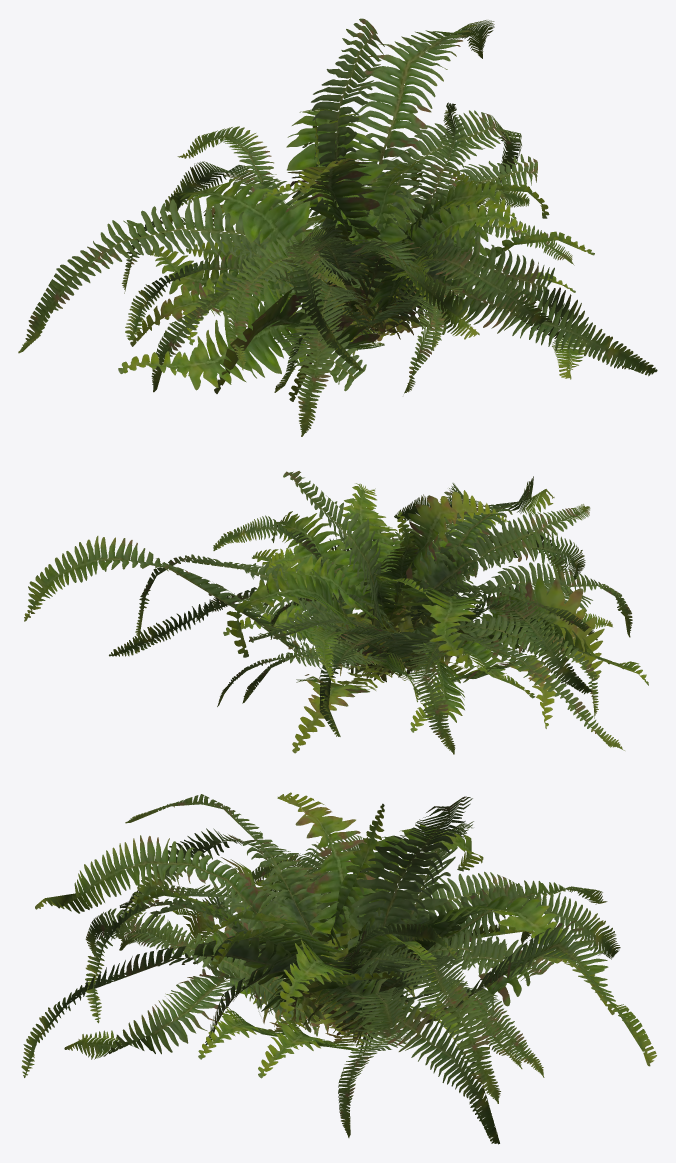
File: fern_02.glb
The picture shows the model from 3 angles, top to bottom: view 1: azimuth 30°, elevation 25°; view 2: azimuth 150°, elevation 25°; view 3: azimuth 270°, elevation 25°; orthographic projection. The views are drawn at different scales.
Visible parts, largest first — view 1: a, b, d, c; view 2: a, b, c, d; view 3: a, b, c, d.
Boxes of the visible parts, bbox=[...] form: a: bbox=[18, 18, 657, 436]; b: bbox=[118, 118, 588, 401]; d: bbox=[150, 170, 575, 392]; c: bbox=[182, 102, 554, 351]; a: bbox=[24, 471, 632, 753]; b: bbox=[109, 483, 648, 754]; c: bbox=[213, 515, 535, 706]; d: bbox=[267, 511, 612, 732]; a: bbox=[21, 792, 656, 1137]; b: bbox=[64, 794, 607, 1144]; c: bbox=[119, 865, 554, 1077]; d: bbox=[131, 849, 533, 1059].
Size of the model in its own units: 0.989 by 0.4277 by 0.8938.
1 material, 1 textured.
